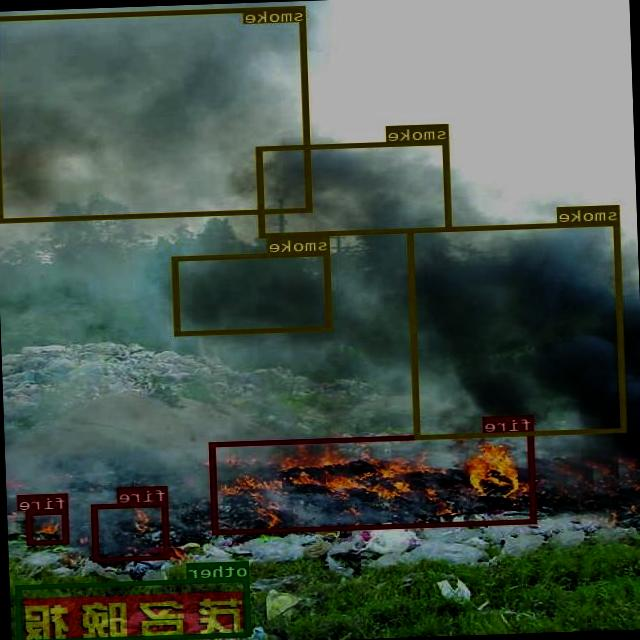fire: (210, 430, 537, 534), (91, 501, 170, 560), (27, 508, 70, 544)
smoke: (0, 5, 312, 221), (408, 220, 628, 438), (258, 138, 452, 236), (172, 251, 334, 335)
